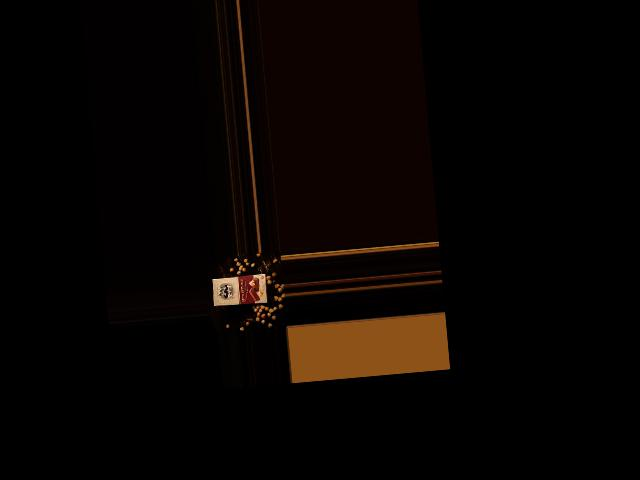chocolate: (210, 272, 269, 310)
